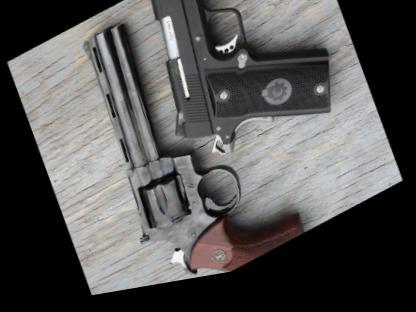pistol: (62, 0, 311, 302), (121, 0, 348, 210)
